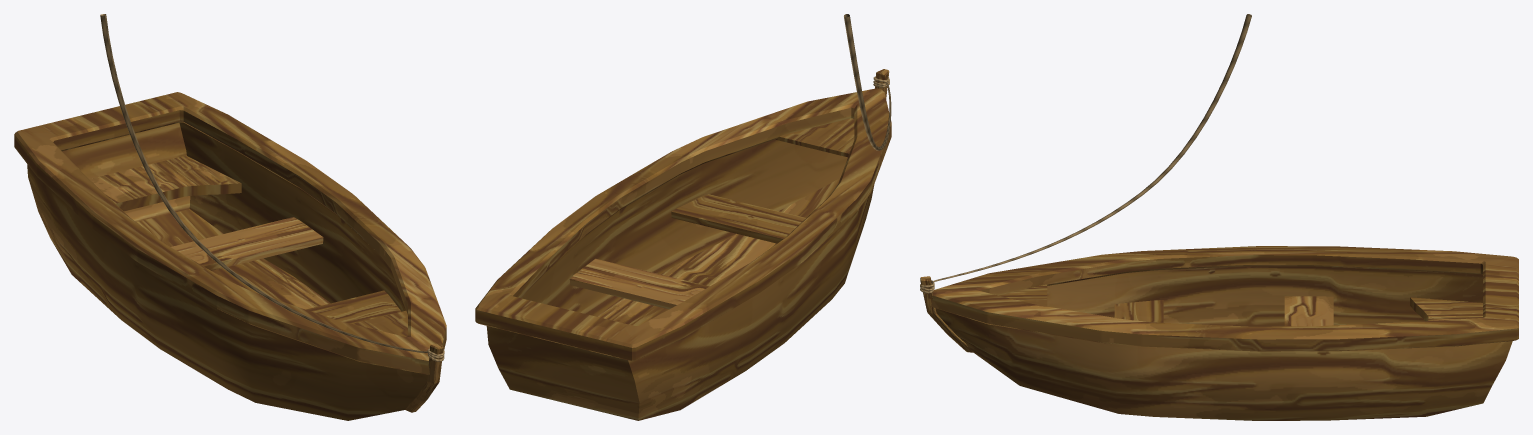
File: Rowboat.fbx
3 views of the same model, side by side, from view 1: azimuth 30°, elevation 25°; view 2: azimuth 150°, elevation 25°; view 3: azimuth 270°, elevation 25° (orthographic). The views are drawn at different scales.
Parts seen in each view (by area): view 1: Rowboat; view 2: Rowboat; view 3: Rowboat.
Boxes of the visible parts, x1,y1,x2,y2 form: Rowboat: [14, 14, 446, 420]; Rowboat: [475, 14, 891, 420]; Rowboat: [920, 14, 1518, 420].
Bounding box in the file's own units: 146 × 189 × 334.
